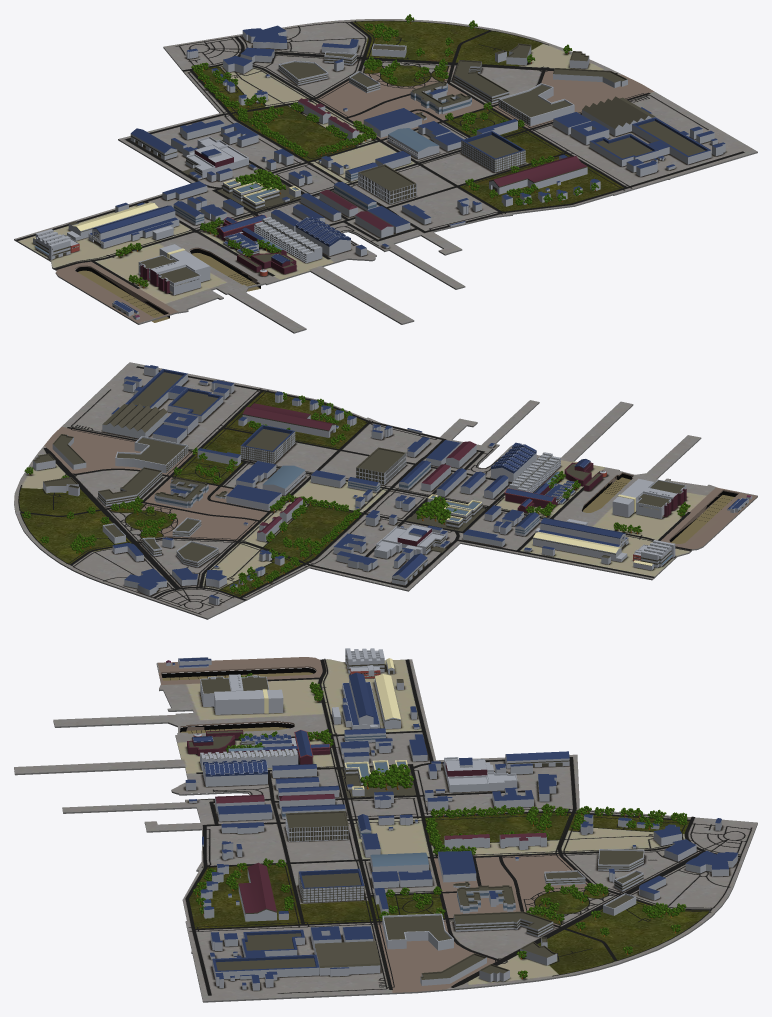
The model's file is philly-area-2.glb.
3 renders of one model, top to bottom at view 1: azimuth 30°, elevation 25°; view 2: azimuth 150°, elevation 25°; view 3: azimuth 270°, elevation 25°, orthographic. The views are drawn at different scales.
Visible parts, largest first — view 1: Philly_Area 2; view 2: Philly_Area 2; view 3: Philly_Area 2.
Part boxes in pixels (box(x1,y1,x2,y2)): Philly_Area 2: box(14, 14, 757, 333); Philly_Area 2: box(14, 362, 757, 619); Philly_Area 2: box(14, 648, 757, 1002).
Size of the model in its own units: 1625 by 50.29 by 1483.
Materials: 26 (8 with a texture image).
